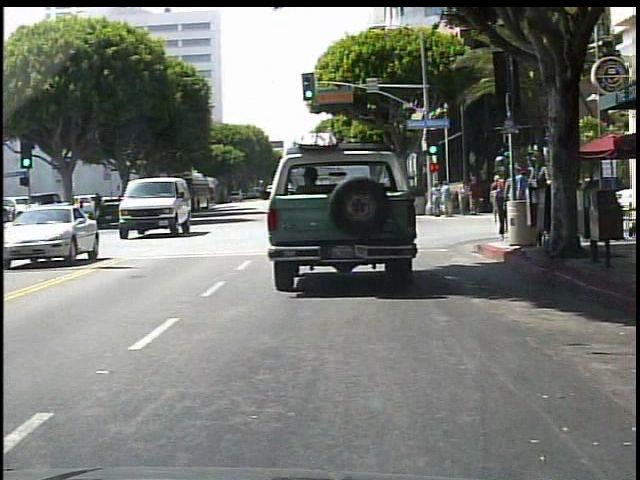person: (511, 164, 530, 239), (488, 171, 507, 223), (522, 175, 539, 228), (497, 176, 510, 241), (538, 174, 552, 219), (469, 172, 482, 214), (440, 180, 453, 217), (458, 179, 469, 214), (432, 184, 443, 215)
